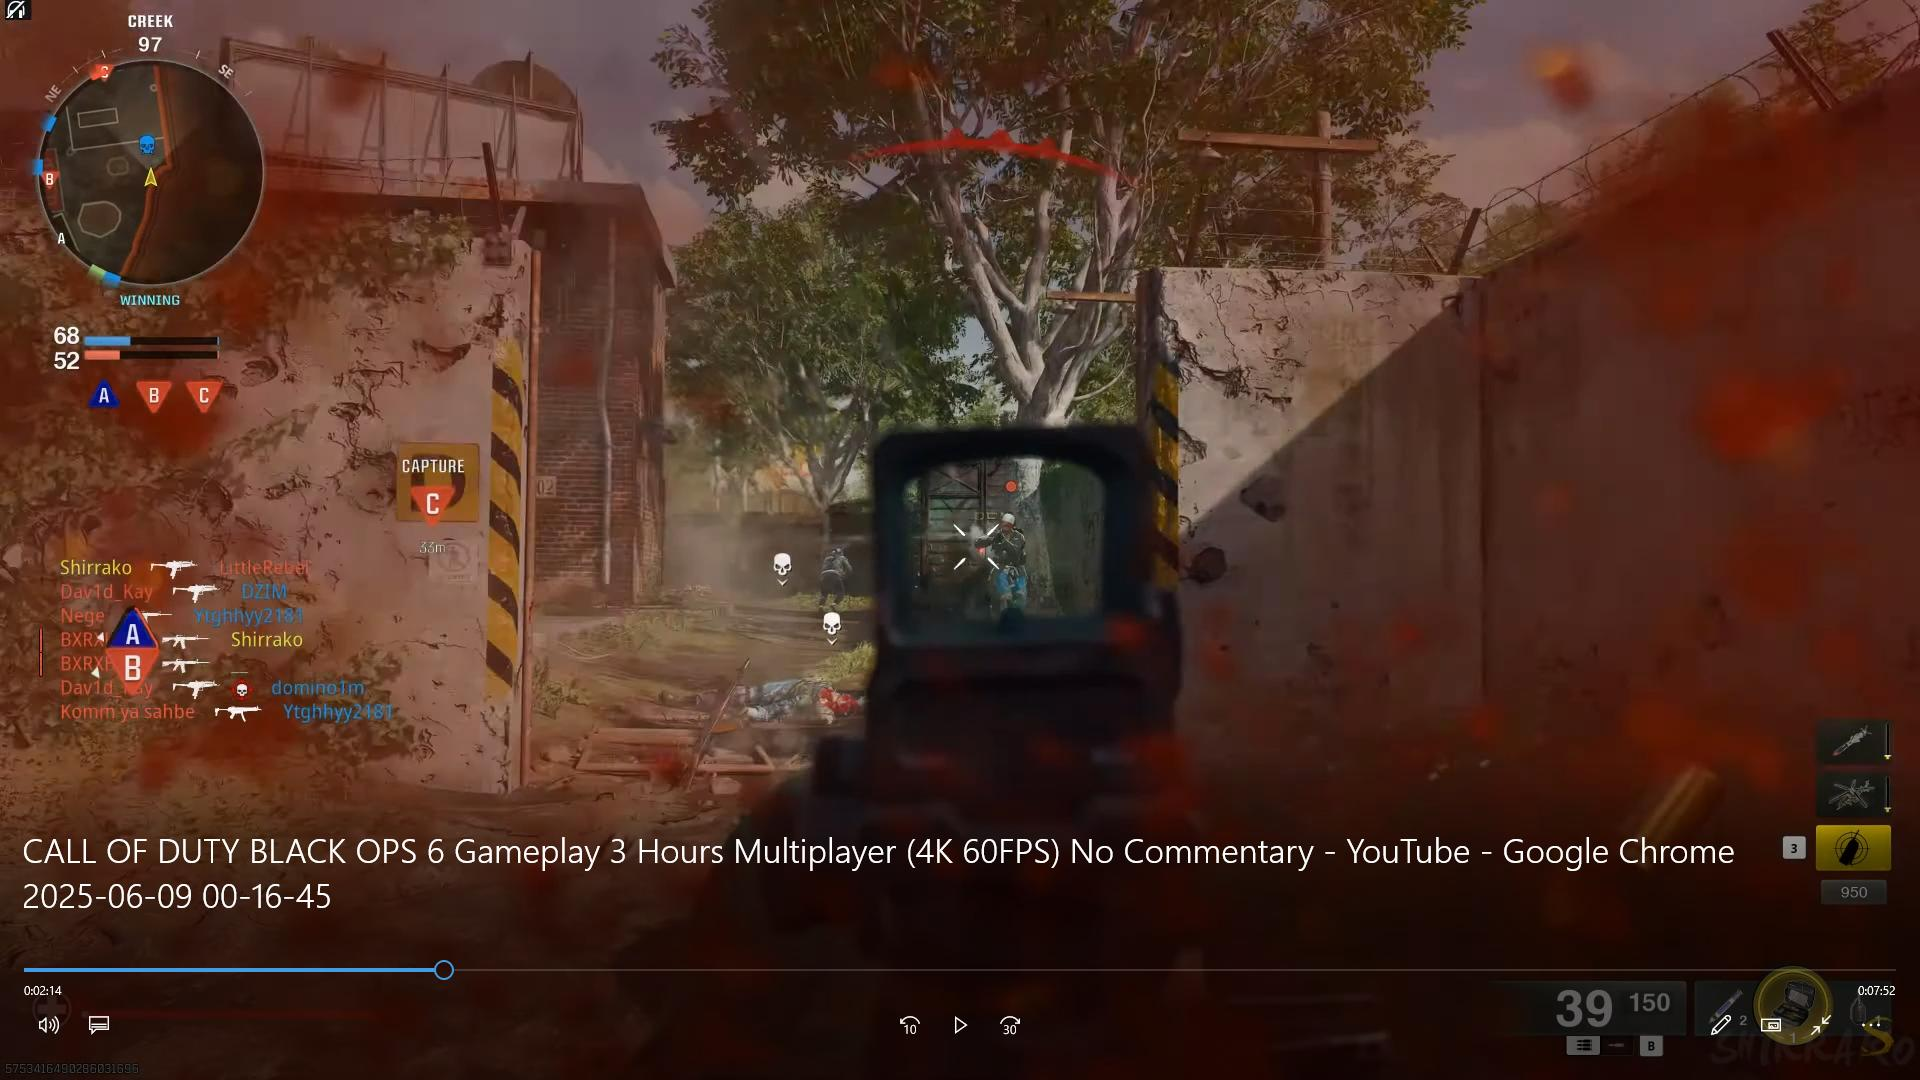Enemy: (986, 509, 1031, 605), (814, 543, 851, 608)
